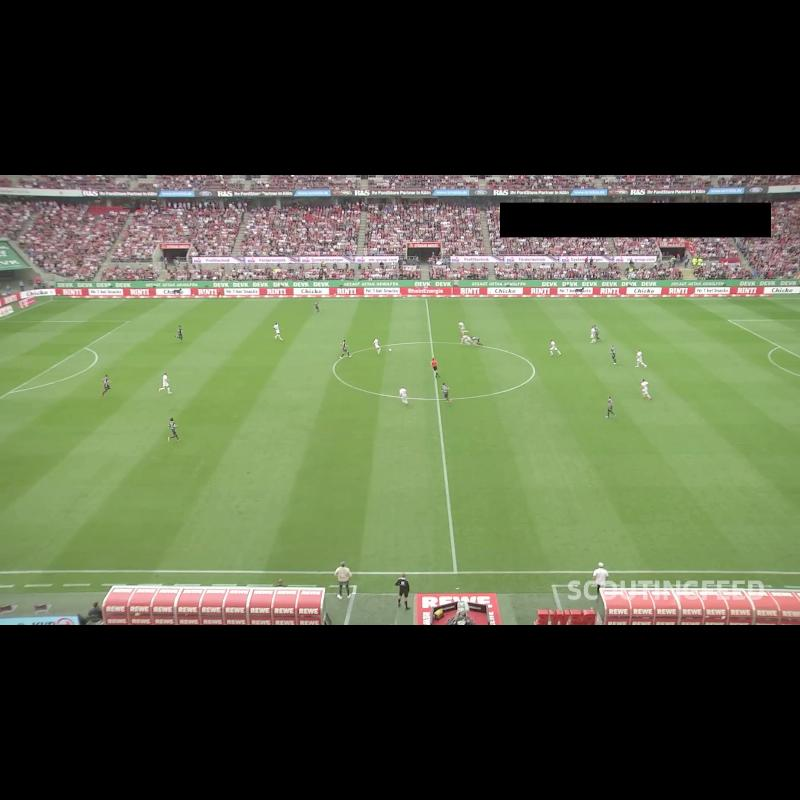cross_recipient_zone: (0, 321, 128, 398), (729, 319, 800, 356)
crossing_player_zone: (0, 300, 242, 321), (612, 297, 800, 322), (0, 451, 68, 514)
pitch: (0, 298, 800, 572)
